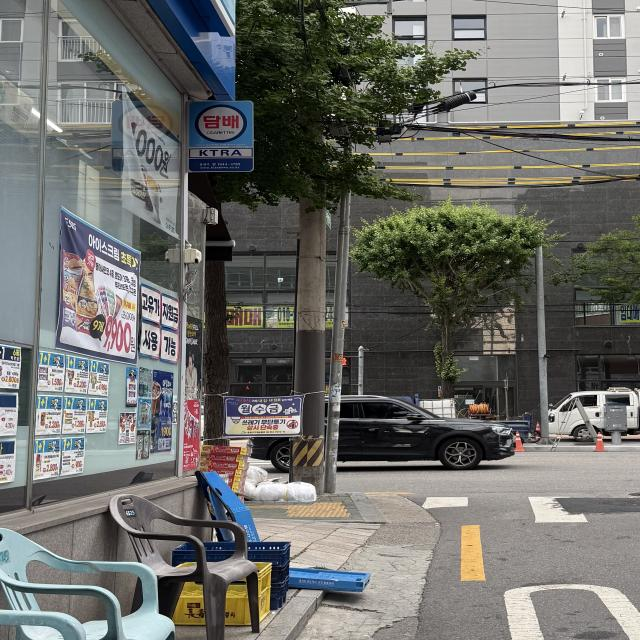car: (239, 378, 538, 490), (527, 378, 640, 452)
